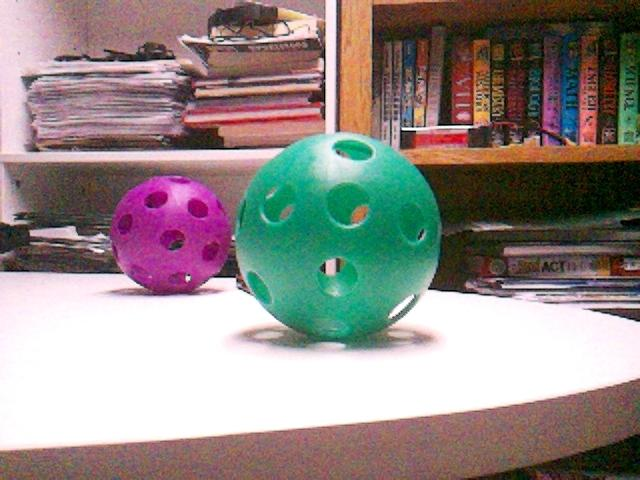Green: (233, 129, 444, 343)
Purple: (107, 172, 232, 295)
